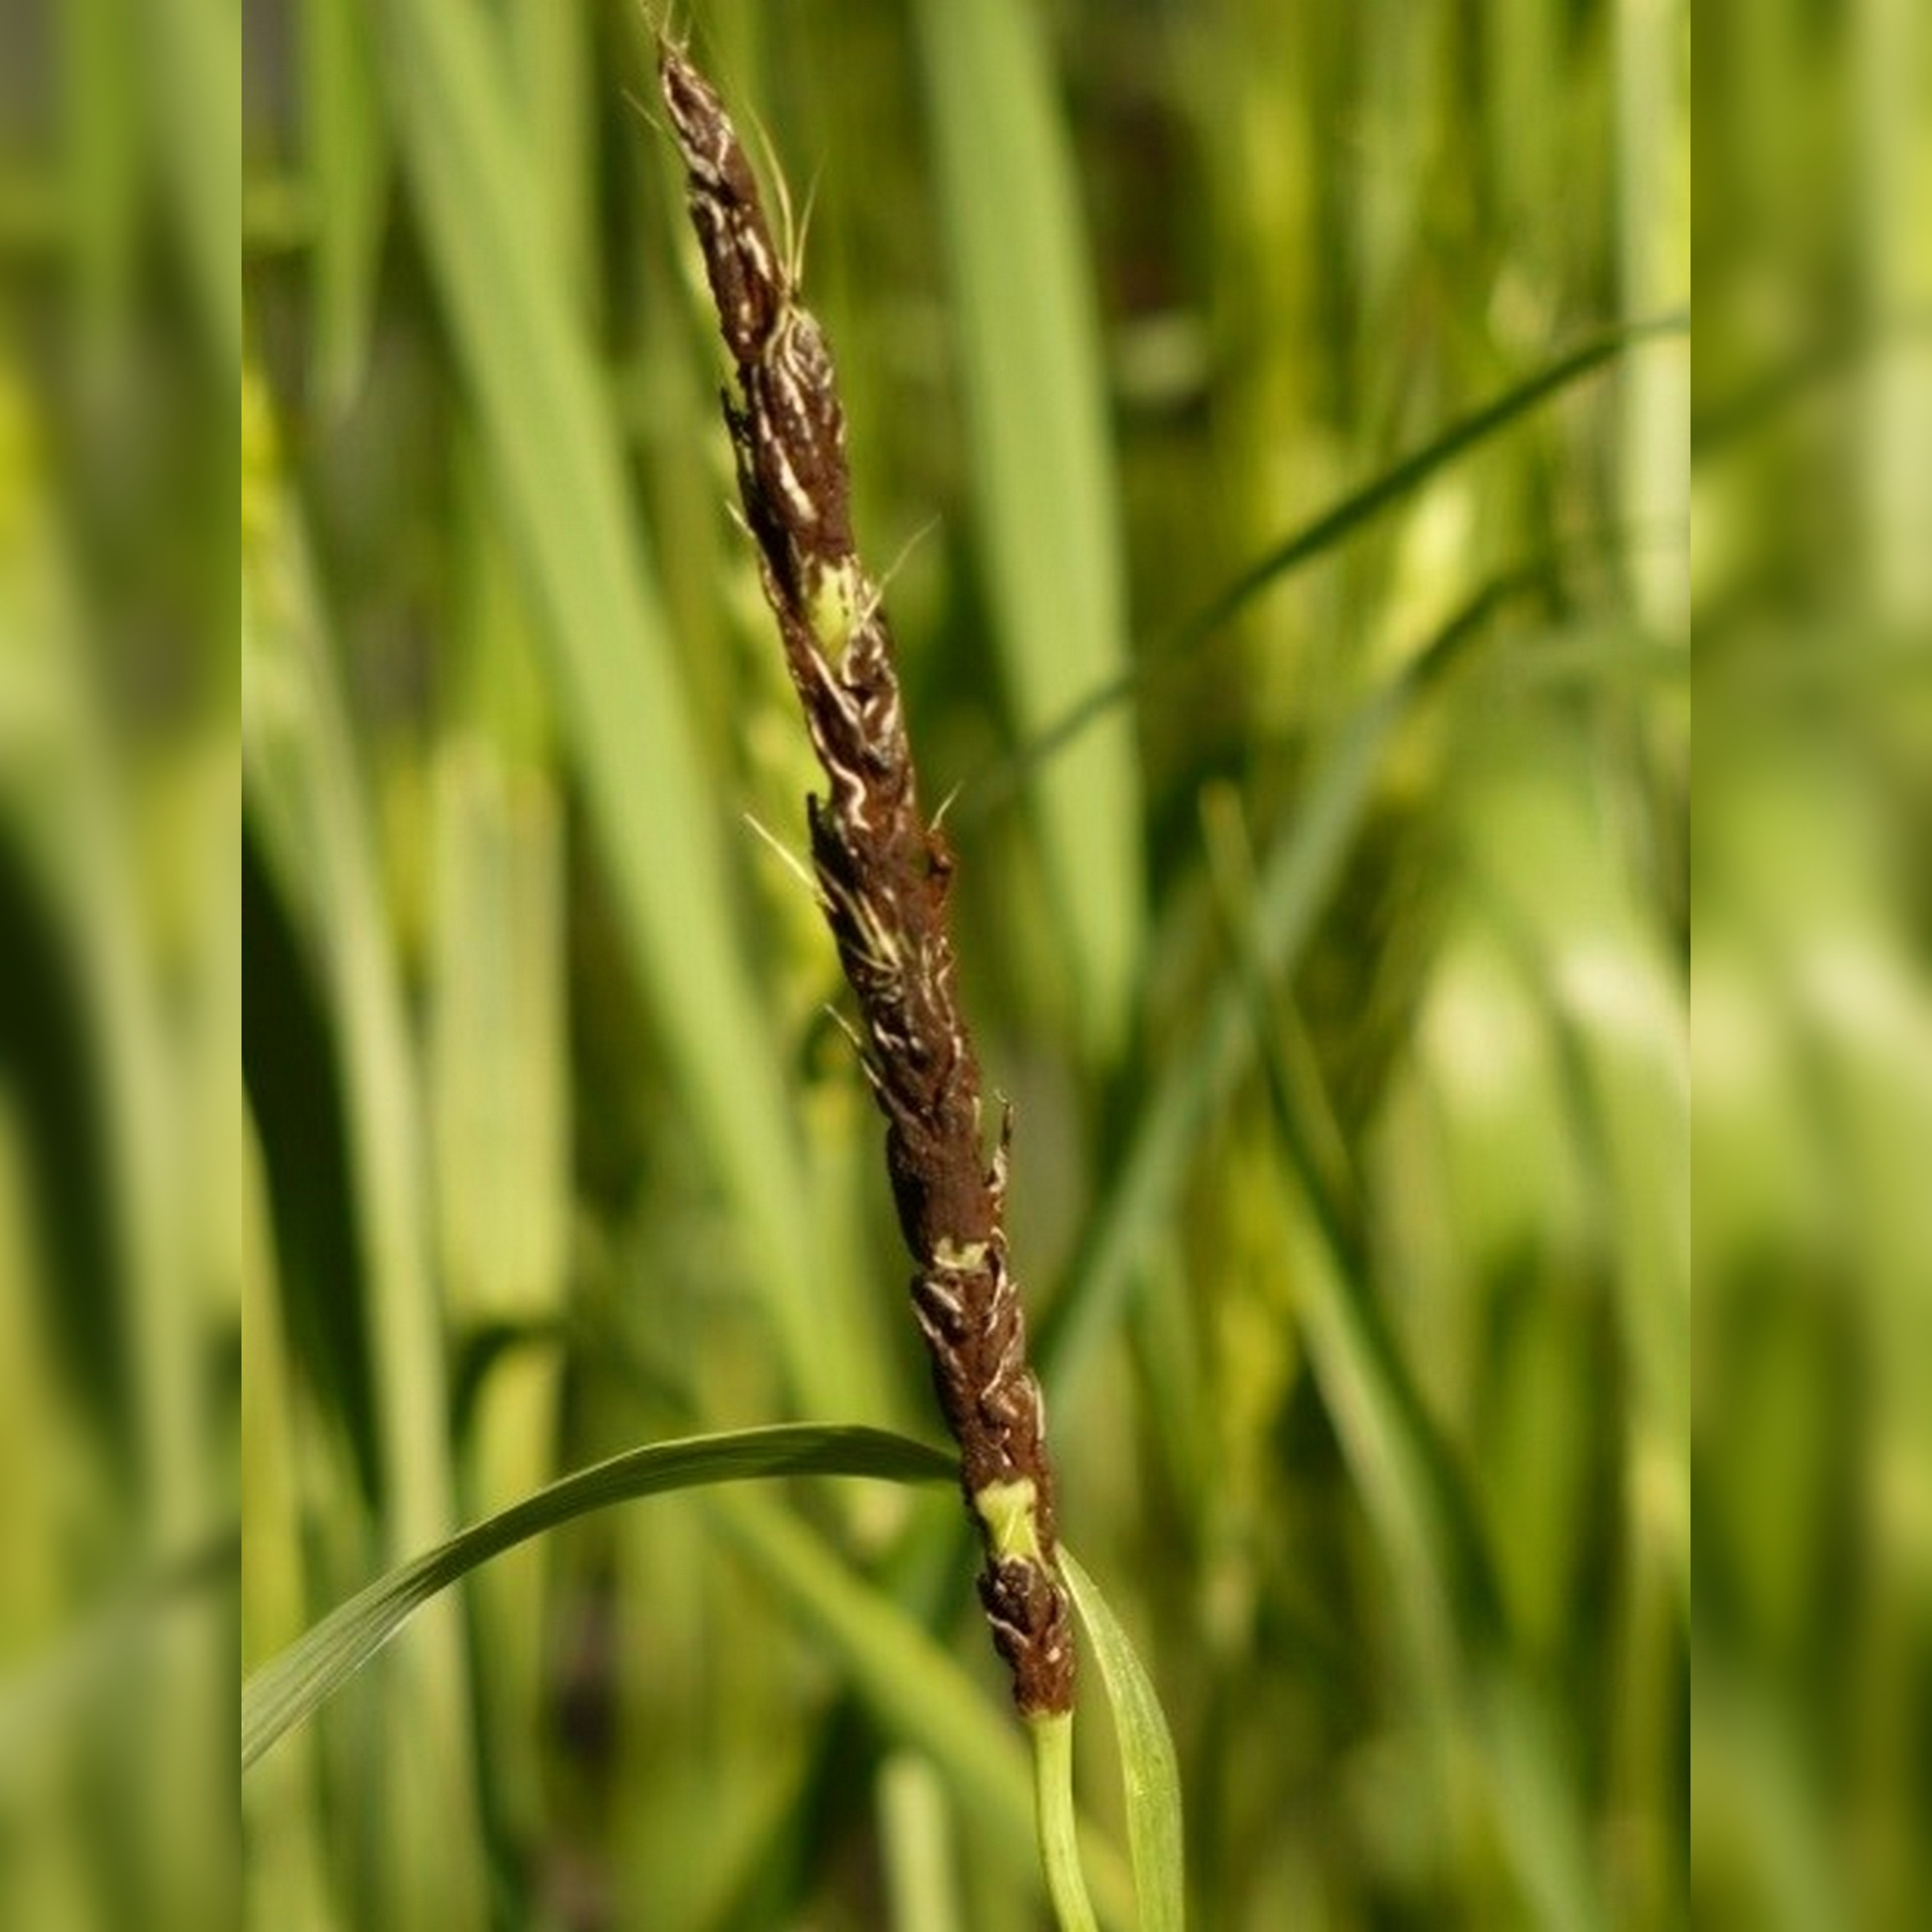Wheat Loose Smut: (632, 30, 1109, 1674)
